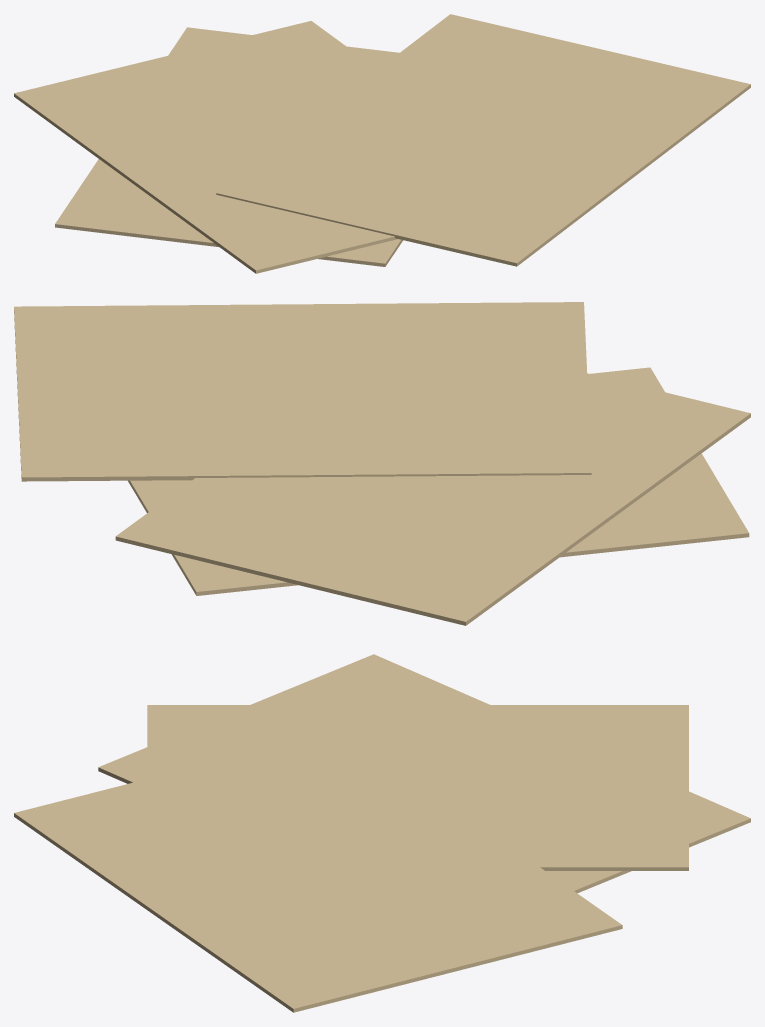
Rendered from pages.fbx.
The picture shows the model from 3 angles, top to bottom: view 1: azimuth 30°, elevation 25°; view 2: azimuth 150°, elevation 25°; view 3: azimuth 270°, elevation 25°; orthographic projection. The views are drawn at different scales.
Parts seen in each view (by area): view 1: Plane; view 2: Plane; view 3: Plane.
Boxes of the visible parts, left/top/right/bottom form: Plane: left=14, top=14, right=750, bottom=273; Plane: left=14, top=302, right=750, bottom=625; Plane: left=14, top=654, right=750, bottom=1012.
Bounding box in the file's own units: 38.86 × 0.4761 × 33.59.
